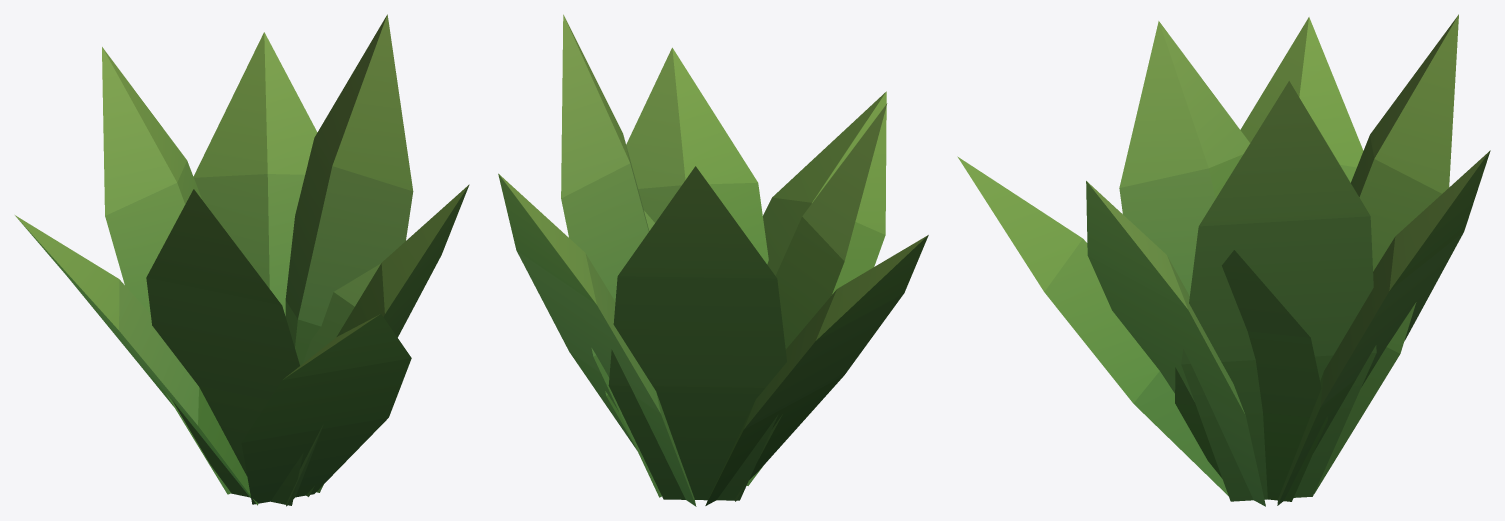
File: plant_grass_broad_v3.fbx
3 views of the same model, side by side, from view 1: azimuth 30°, elevation 25°; view 2: azimuth 150°, elevation 25°; view 3: azimuth 270°, elevation 25° (orthographic). The views are drawn at different scales.
Parts seen in each view (by area): view 1: plant_grass_broad_v3; view 2: plant_grass_broad_v3; view 3: plant_grass_broad_v3.
Part boxes in pixels (x1,y1,x2,y2): plant_grass_broad_v3: [15, 14, 469, 506]; plant_grass_broad_v3: [498, 14, 928, 506]; plant_grass_broad_v3: [957, 14, 1490, 506].
Size of the model in its own units: 200 by 224 by 230.
